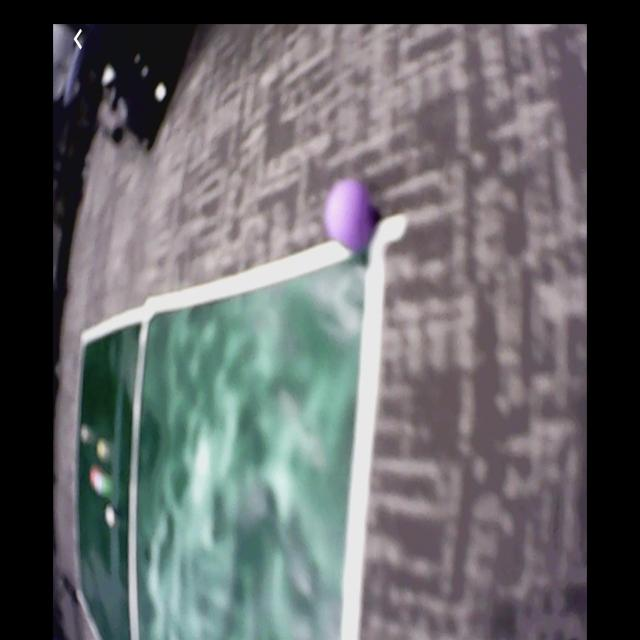ball: (327, 179, 375, 251)
